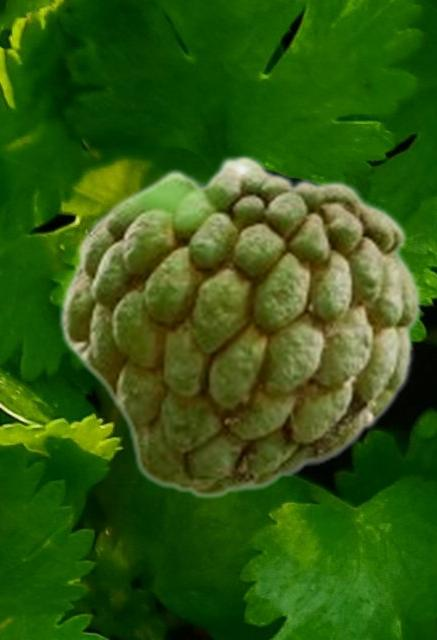atis: (56, 153, 421, 498)
